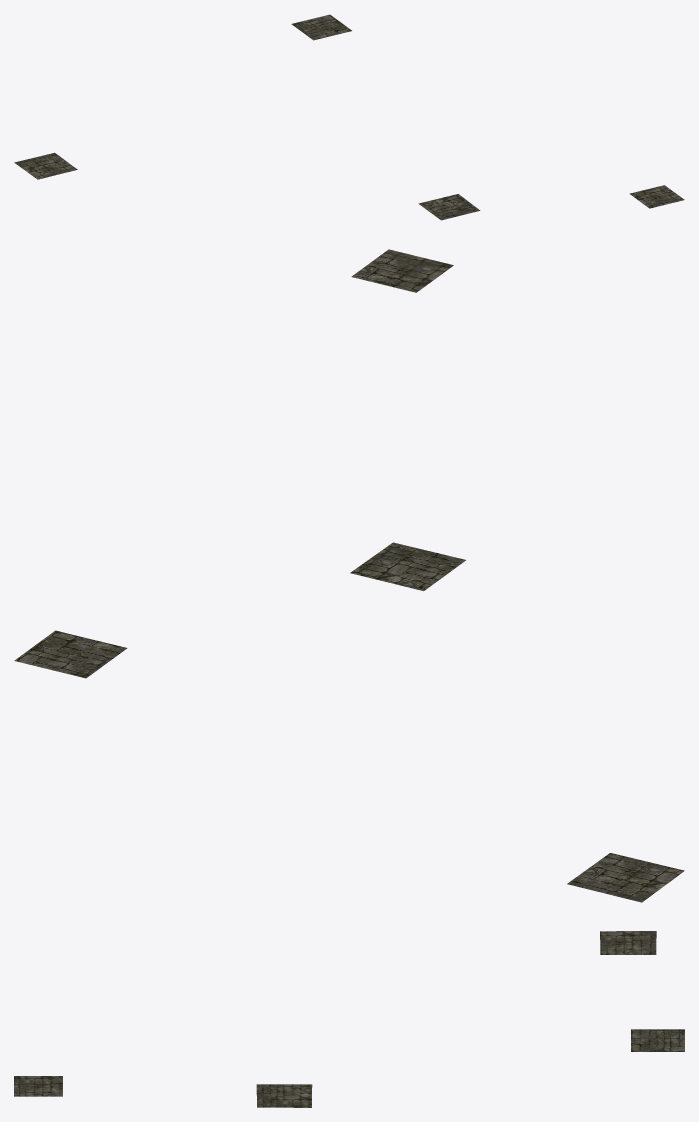
Rendered from PO_009_yuka_otoshiwana_01_01.fbx.
3 views of the same model, one above another, from view 1: azimuth 30°, elevation 25°; view 2: azimuth 150°, elevation 25°; view 3: azimuth 270°, elevation 25° (orthographic). The views are drawn at different scales.
Visible parts, largest first — view 1: yuka_otosiwana002, yuka_otosiwana001, yuka_otosiwana003, yuka_otosiwana004; view 2: yuka_otosiwana002, yuka_otosiwana001, yuka_otosiwana003, yuka_otosiwana004; view 3: yuka_otosiwana002, yuka_otosiwana001, yuka_otosiwana003, yuka_otosiwana004.
Part boxes in pixels (box(x1,y1,x2,y2)): yuka_otosiwana002: box(14, 152, 77, 179); yuka_otosiwana001: box(418, 194, 480, 220); yuka_otosiwana003: box(291, 14, 351, 40); yuka_otosiwana004: box(629, 185, 684, 208); yuka_otosiwana002: box(567, 853, 684, 902); yuka_otosiwana001: box(350, 542, 465, 591); yuka_otosiwana003: box(14, 630, 127, 678); yuka_otosiwana004: box(351, 249, 453, 292); yuka_otosiwana002: box(600, 931, 656, 954); yuka_otosiwana001: box(256, 1084, 312, 1107); yuka_otosiwana003: box(631, 1029, 684, 1051); yuka_otosiwana004: box(14, 1076, 62, 1096).
Size of the model in its own units: 616 by 86.61 by 737.
